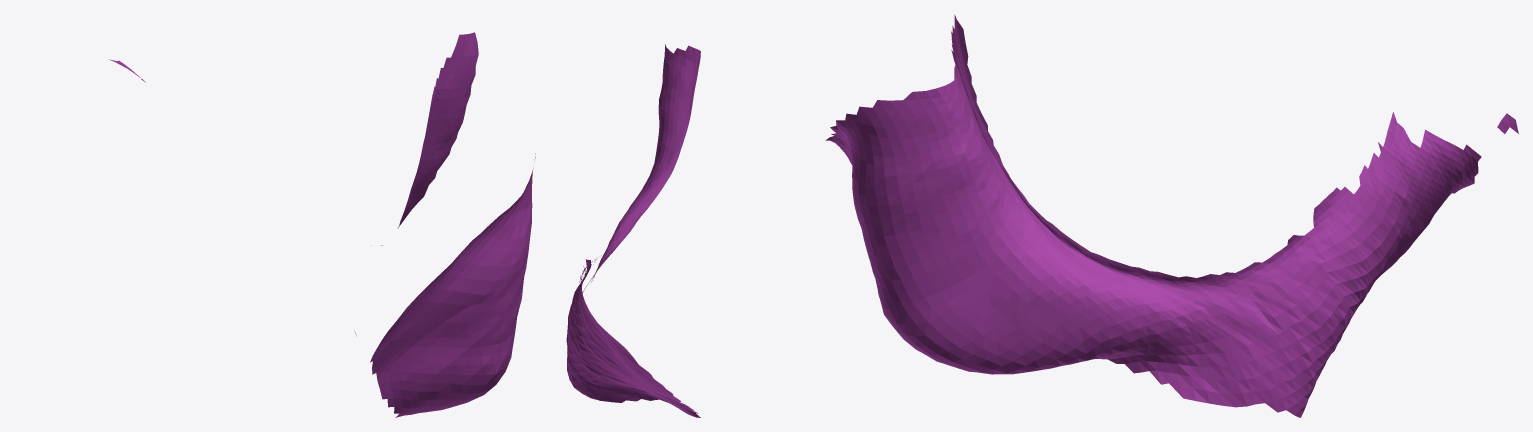
File: lh_isthmuscingulate.glb
3 renders of one model, left to right at view 1: azimuth 30°, elevation 25°; view 2: azimuth 150°, elevation 25°; view 3: azimuth 270°, elevation 25°, orthographic. The views are drawn at different scales.
Visible parts, largest first — view 1: world; view 2: world; view 3: world.
Part boxes in pixels (left/top/right/bottom): world: left=109, top=32, right=535, bottom=417; world: left=566, top=44, right=700, bottom=417; world: left=825, top=14, right=1518, bottom=417.
Bounding box in the file's own units: 18.62 × 30.1 × 44.62.
